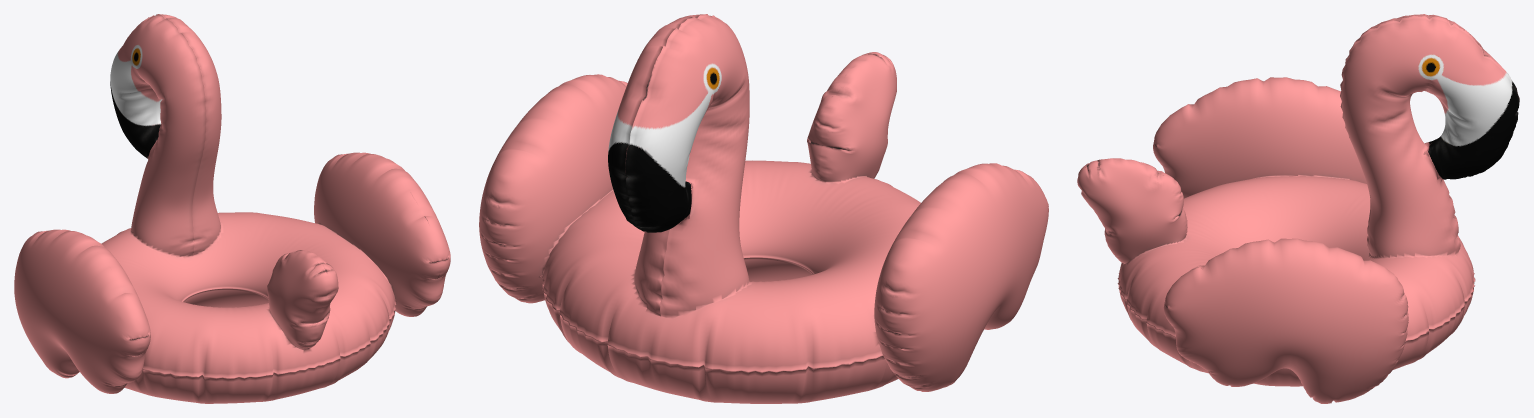
File: float.glb
The picture shows the model from 3 angles, left to right: view 1: azimuth 30°, elevation 25°; view 2: azimuth 150°, elevation 25°; view 3: azimuth 270°, elevation 25°; orthographic projection. The views are drawn at different scales.
Parts seen in each view (by area): view 1: Torus.005; view 2: Torus.005; view 3: Torus.005.
Part boxes in pixels (x1=…): Torus.005: x1=14, y1=14, x2=450, y2=403; Torus.005: x1=479, y1=14, x2=1048, y2=403; Torus.005: x1=1077, y1=14, x2=1519, y2=403.
Bounding box in the file's own units: 409 × 302 × 387.
1 material, 1 textured.
